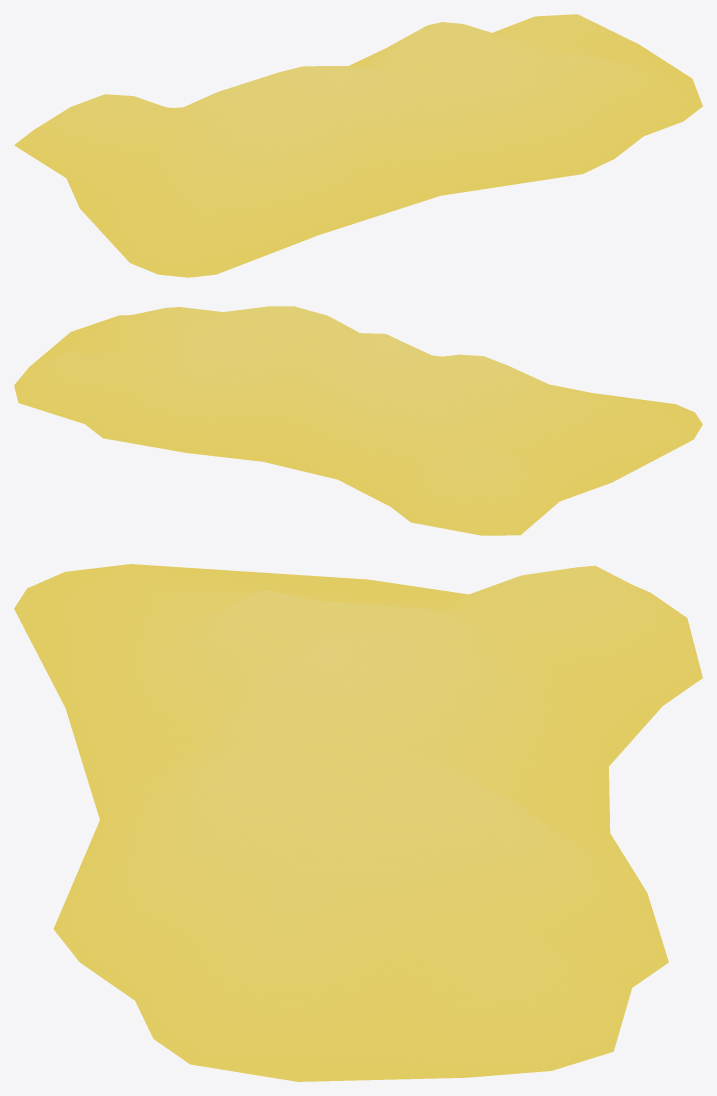
Rendered from Mountain_2.fbx.
The picture shows the model from 3 angles, top to bottom: view 1: azimuth 30°, elevation 25°; view 2: azimuth 150°, elevation 25°; view 3: azimuth 270°, elevation 25°; orthographic projection. The views are drawn at different scales.
Visible parts, largest first — view 1: Mountain_2; view 2: Mountain_2; view 3: Mountain_2.
Part boxes in pixels (left/top/right/bottom): Mountain_2: left=14, top=14, right=702, bottom=277; Mountain_2: left=14, top=306, right=702, bottom=535; Mountain_2: left=14, top=564, right=702, bottom=1081.
Bounding box in the file's own units: 2165 × 277 × 1217.
1 material, 1 textured.
